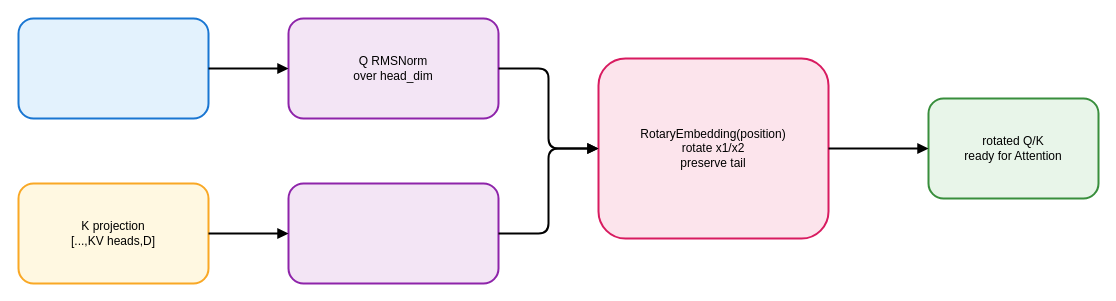
Some shapes in this 1116 by 301 pixel diagram are drawn without their labels. Each missing label, with the box of its shape:
K RMSNorm over head_dim: (287, 182, 499, 284)
Q projection [...,Q heads,D]: (17, 17, 209, 119)
